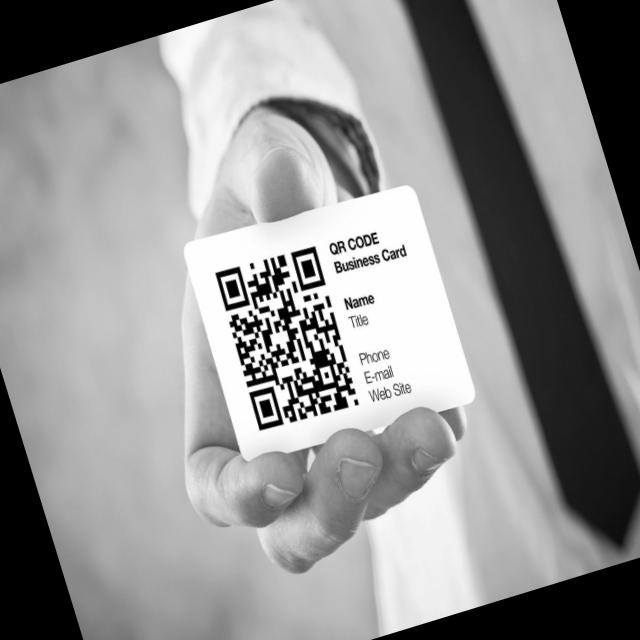QR-codes: (208, 240, 362, 433)
